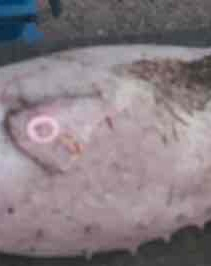text: (22, 101, 68, 159)
